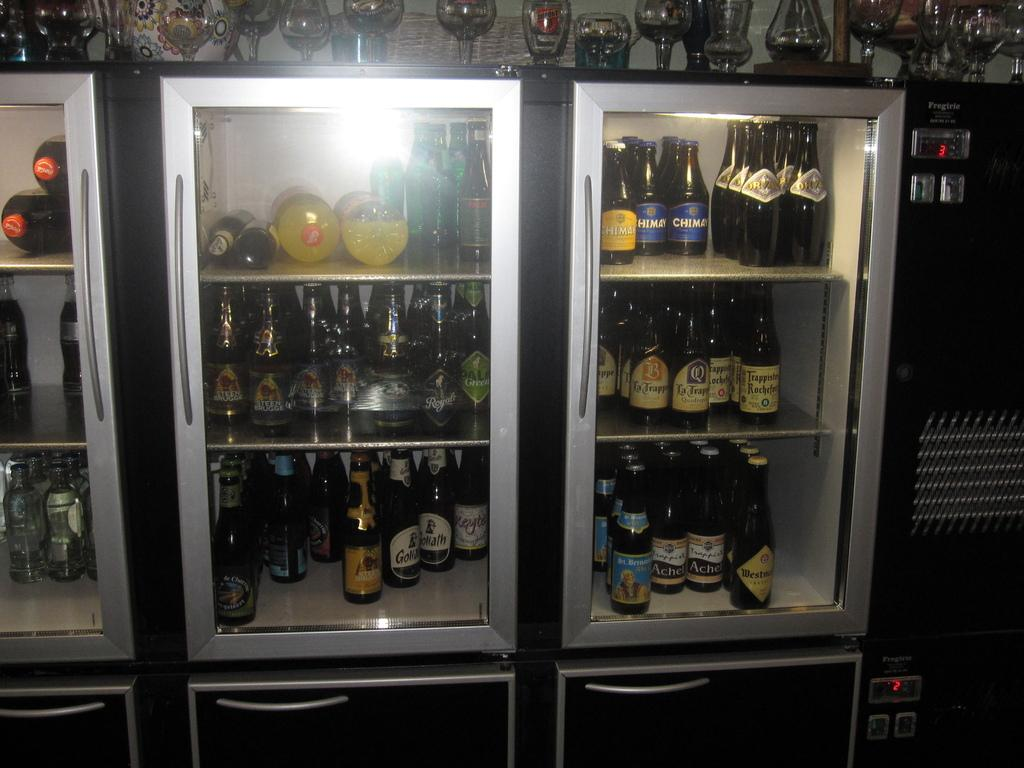cabinet_door: (565, 669, 856, 768), (188, 685, 510, 768), (0, 694, 134, 762)
handle: (168, 179, 200, 417), (78, 173, 108, 418), (580, 174, 598, 413), (218, 689, 350, 720), (582, 680, 710, 706), (4, 696, 110, 724)
